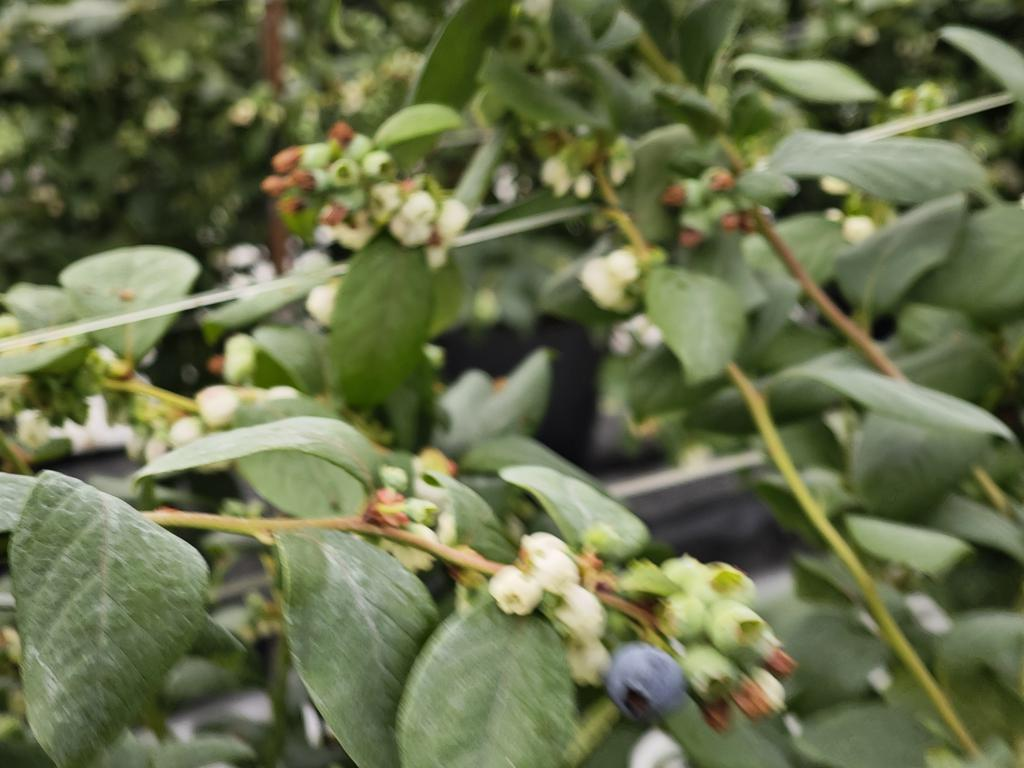RipeBlueBerry: (606, 644, 690, 726)
